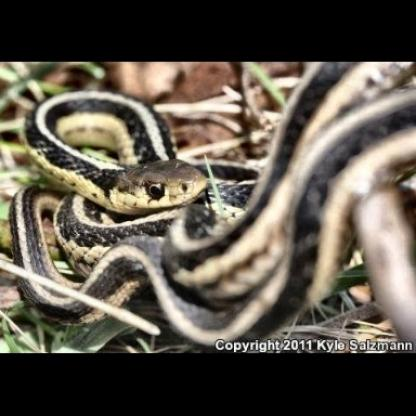Snake: (14, 72, 342, 322)
